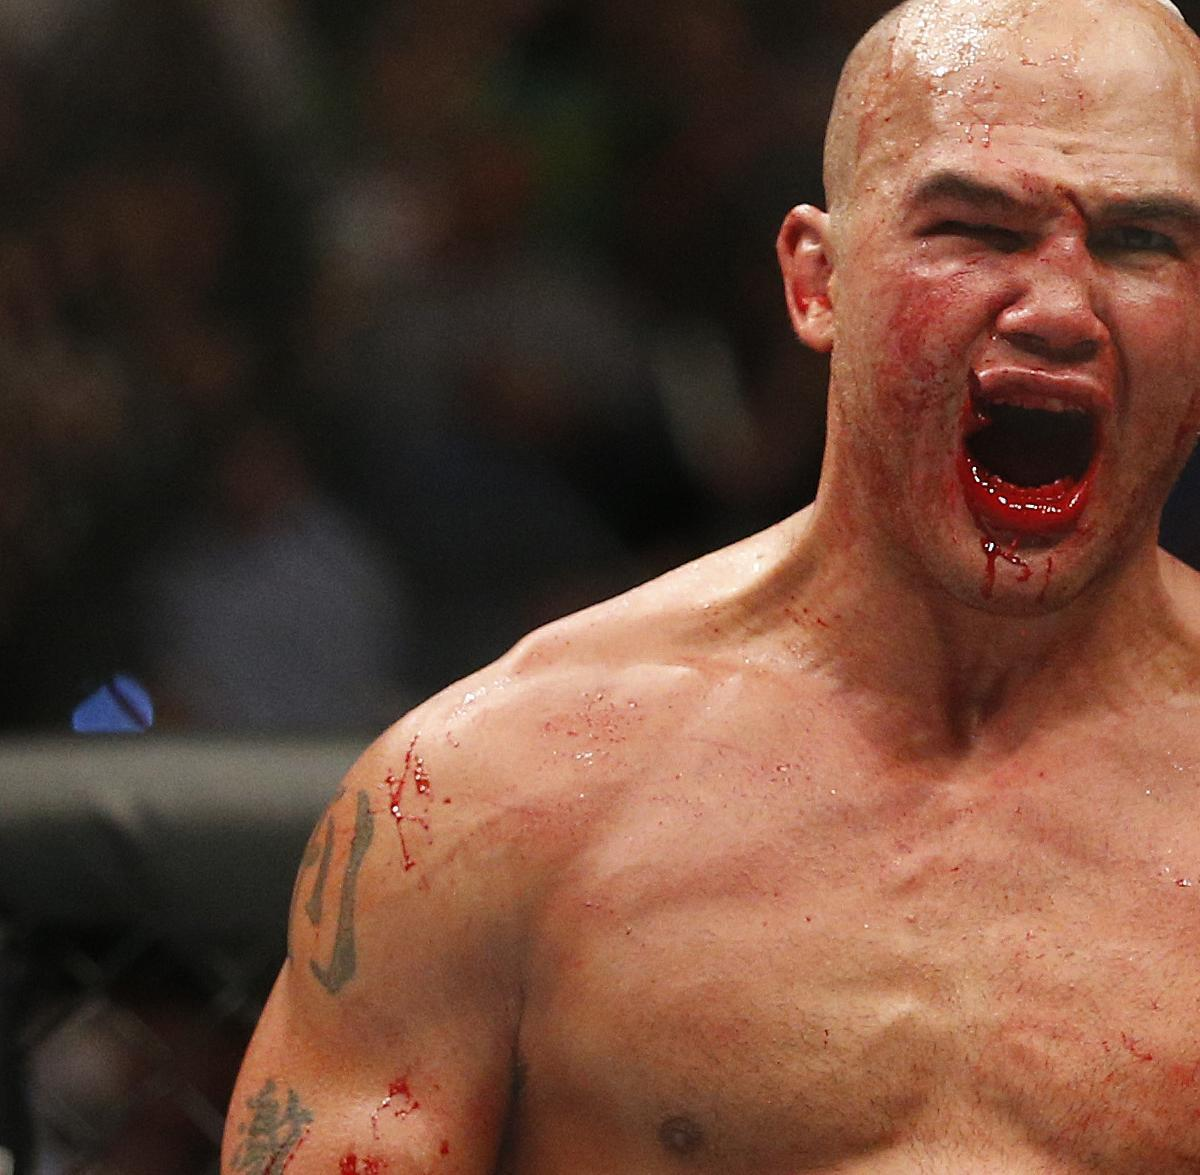Fire: (948, 353, 1115, 612), (249, 1059, 483, 1175), (365, 719, 467, 890), (381, 735, 451, 873)
